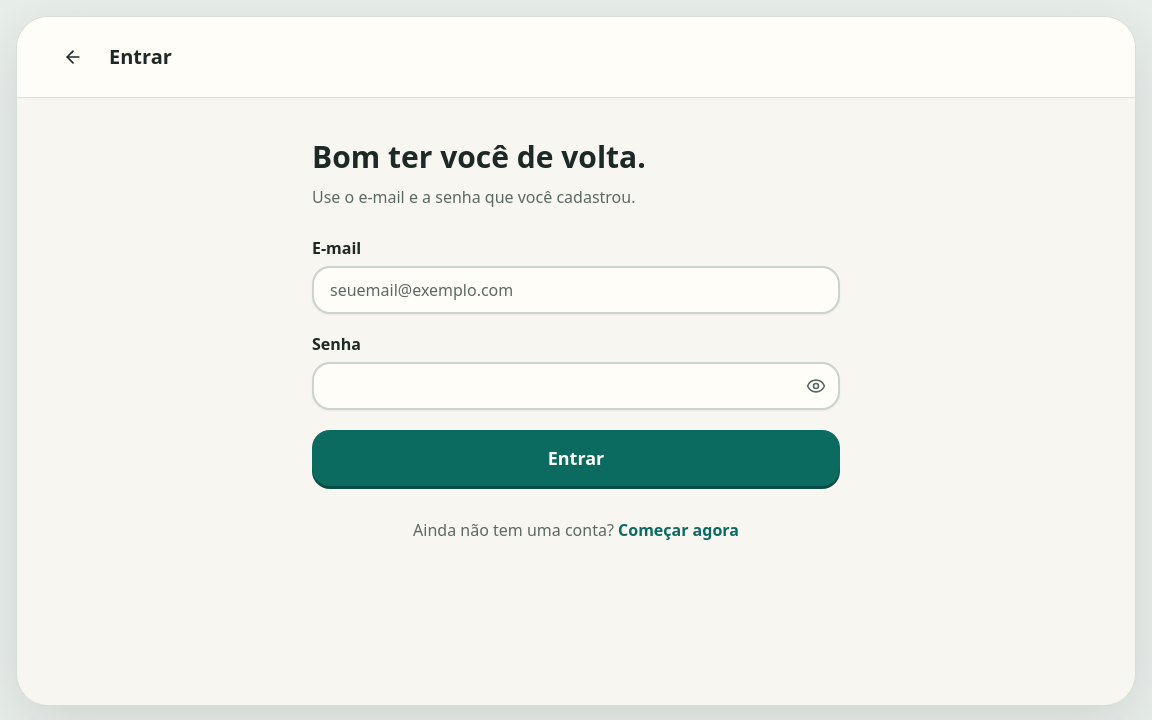
it: authentication flows › logs in a contractor and performs local logout
Step 1. Type "contratante@example.com" into the field labelled "E-mail" → (576, 290), box top-left (312, 266), bottom-right (840, 314)
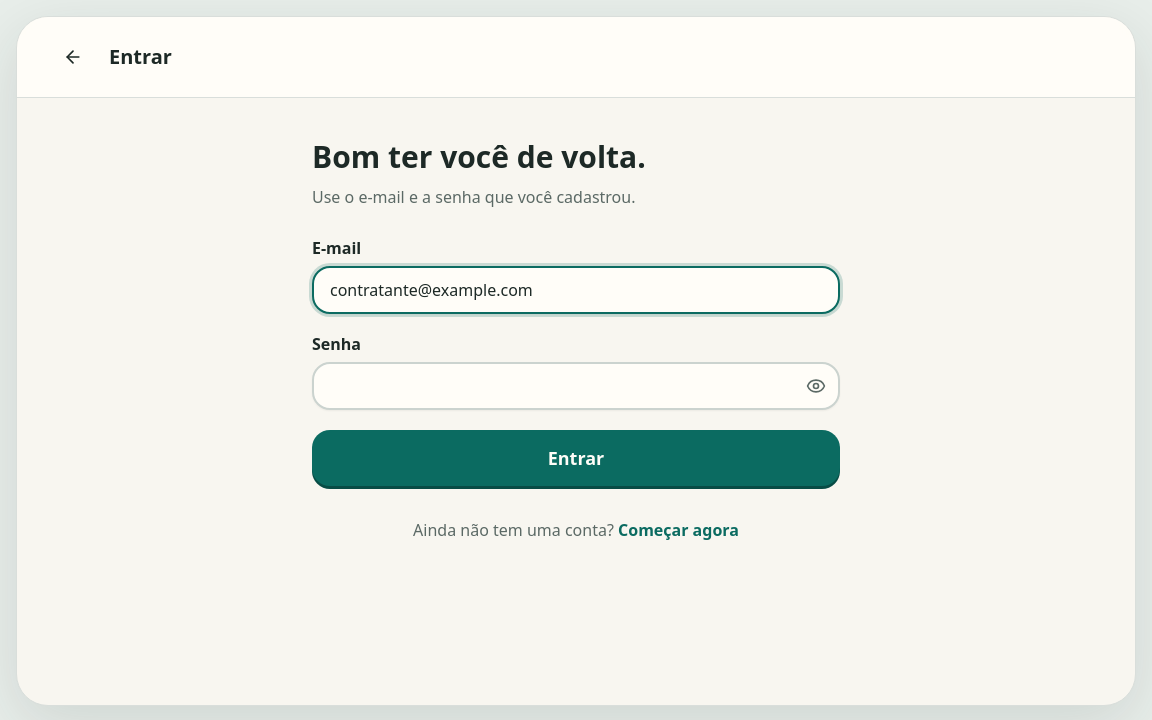
Step 2. Type "senha-segura" into the password field labelled "Senha" → (576, 386), box top-left (312, 362), bottom-right (840, 410)
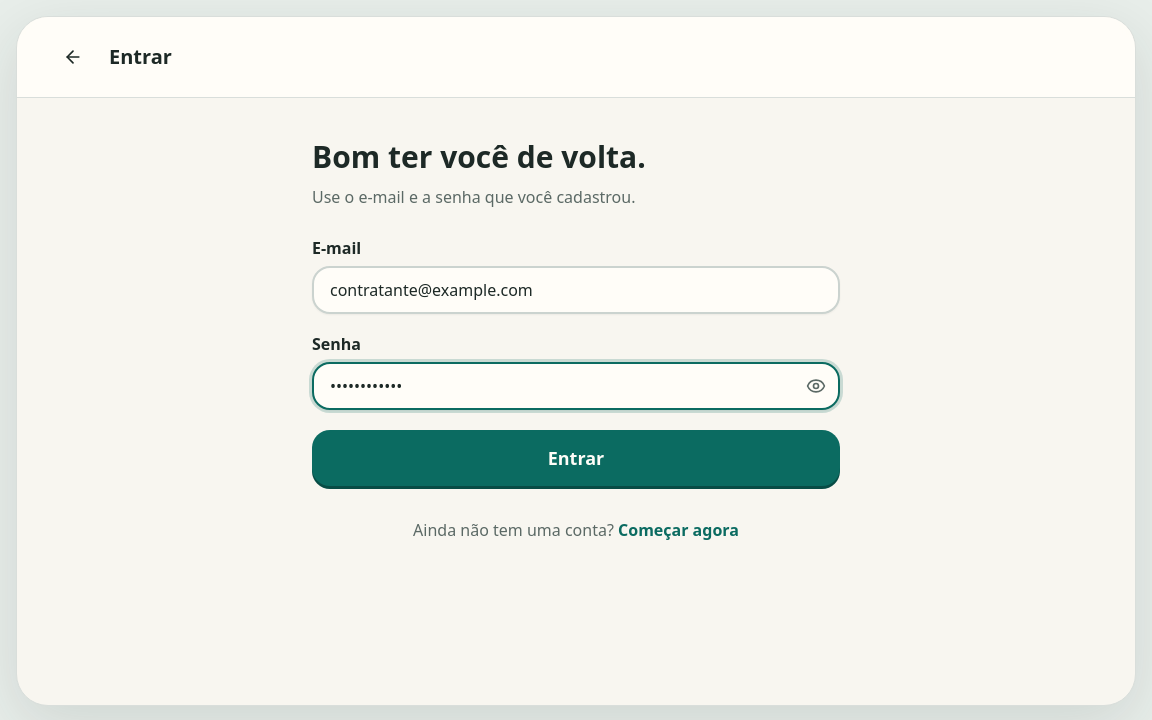
Step 3. Click the button "Entrar" → (576, 458), box top-left (312, 430), bottom-right (840, 486)
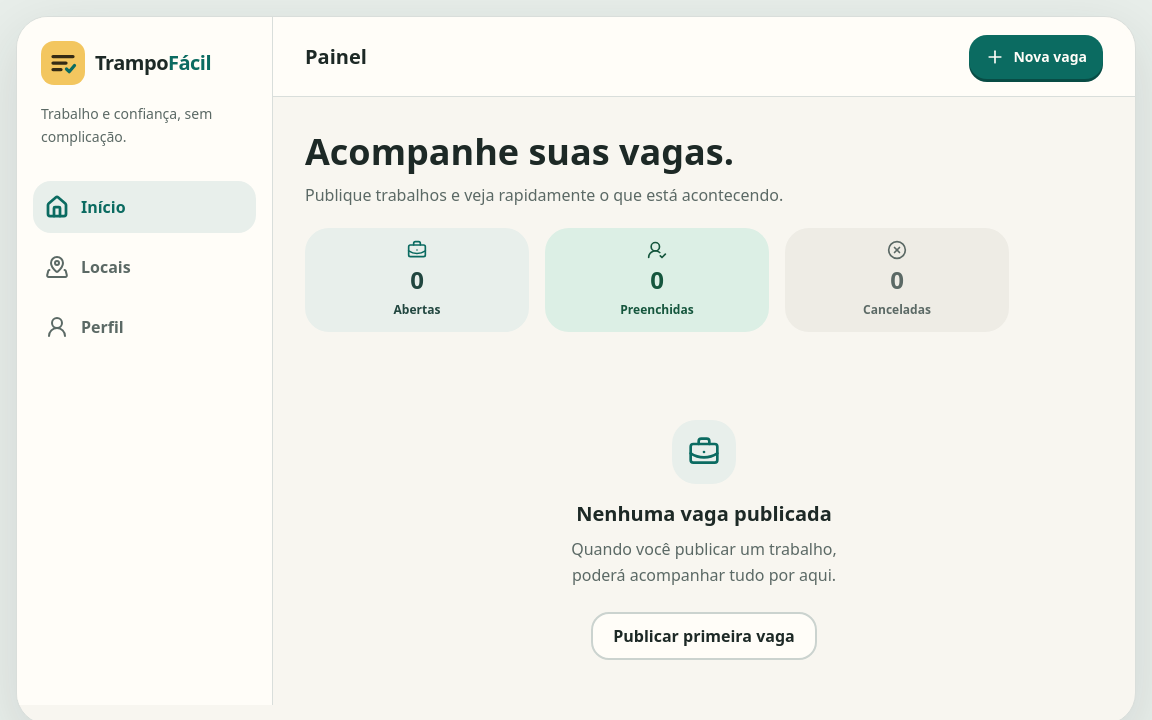
Expected: the heading "Nenhuma vaga publicada" is shown, top-left (576, 500), bottom-right (832, 528)
Step 4. Click the link "Perfil" → (84, 326), box top-left (45, 314), bottom-right (124, 338)
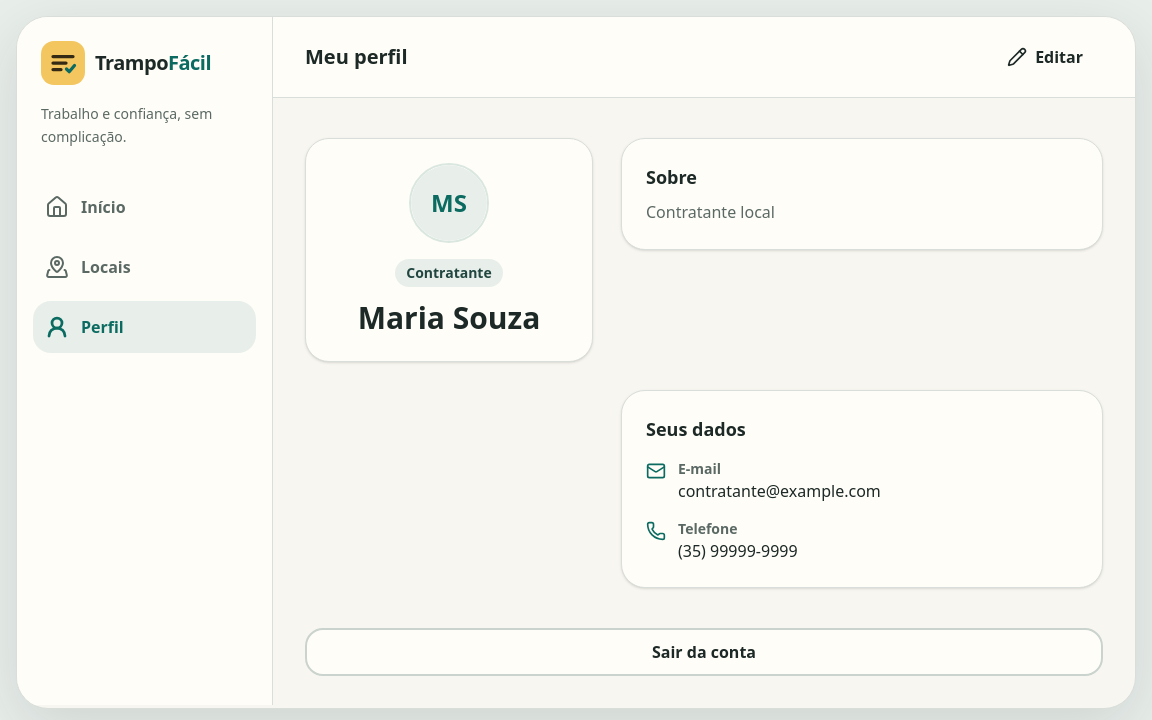
Step 5. Click the button "Sair da conta" → (704, 652), box top-left (305, 628), bottom-right (1103, 676)
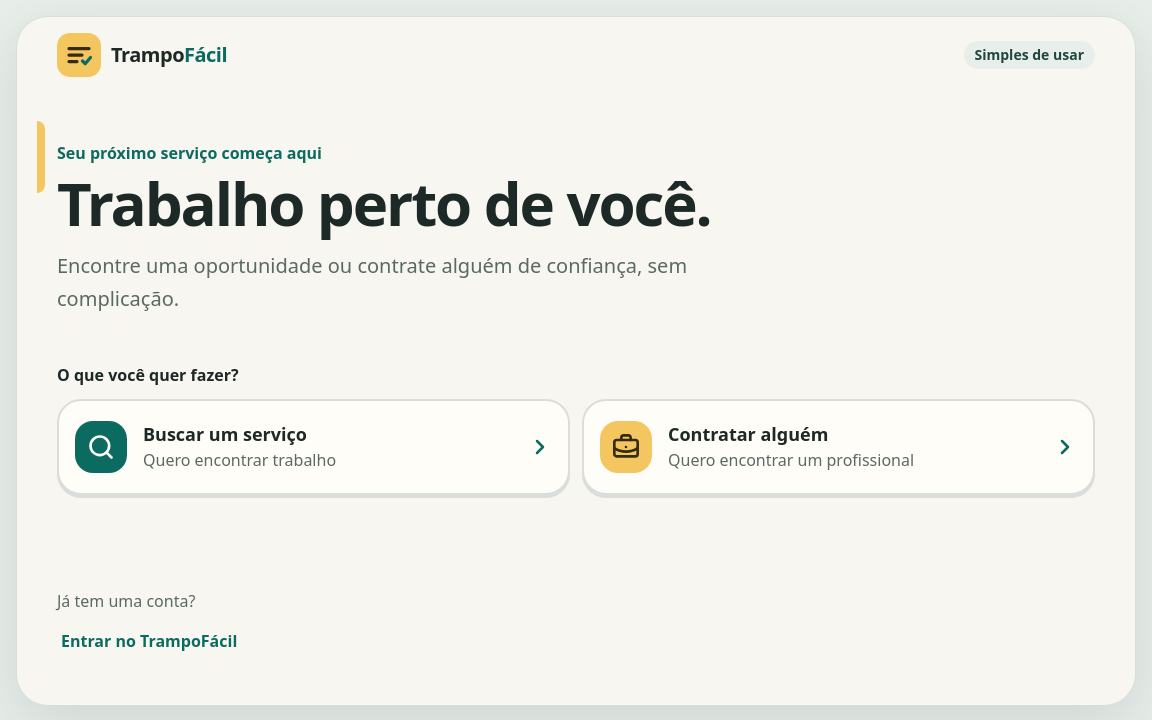
Expected: the heading "Trabalho perto de você." is shown, top-left (57, 173), bottom-right (825, 234)
